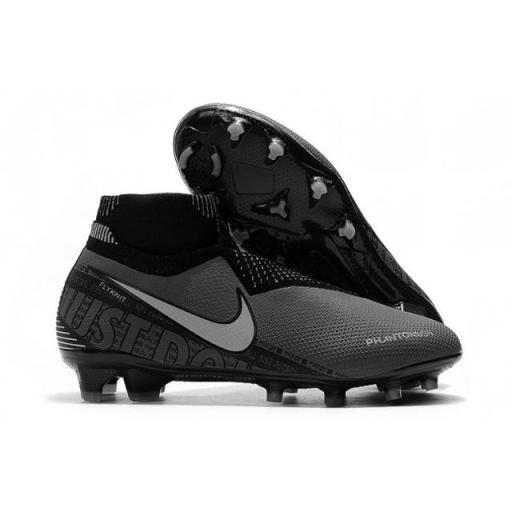Nike: (79, 253, 271, 379)
